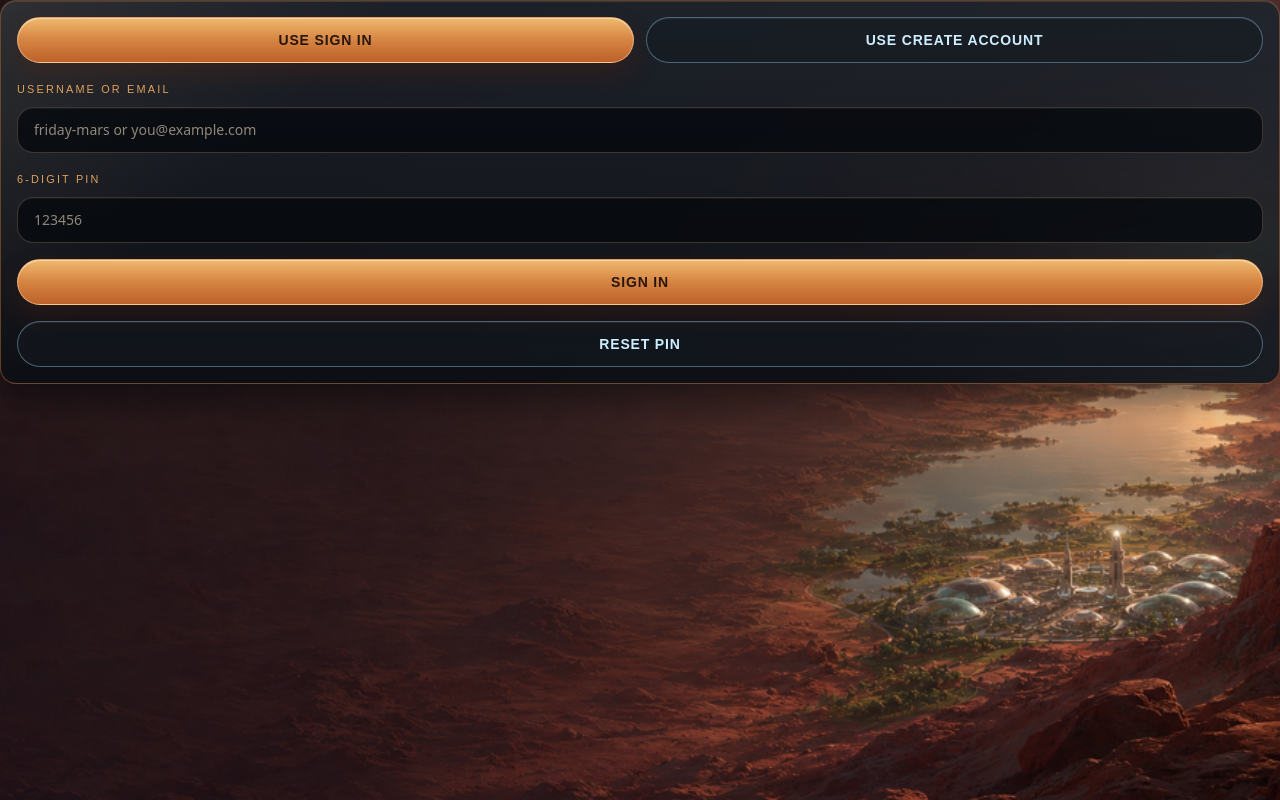
Test: LoginForm › asks for a username or email before requesting a pin reset
Click the button "Reset PIN": (640, 344) [17,321,1263,367]
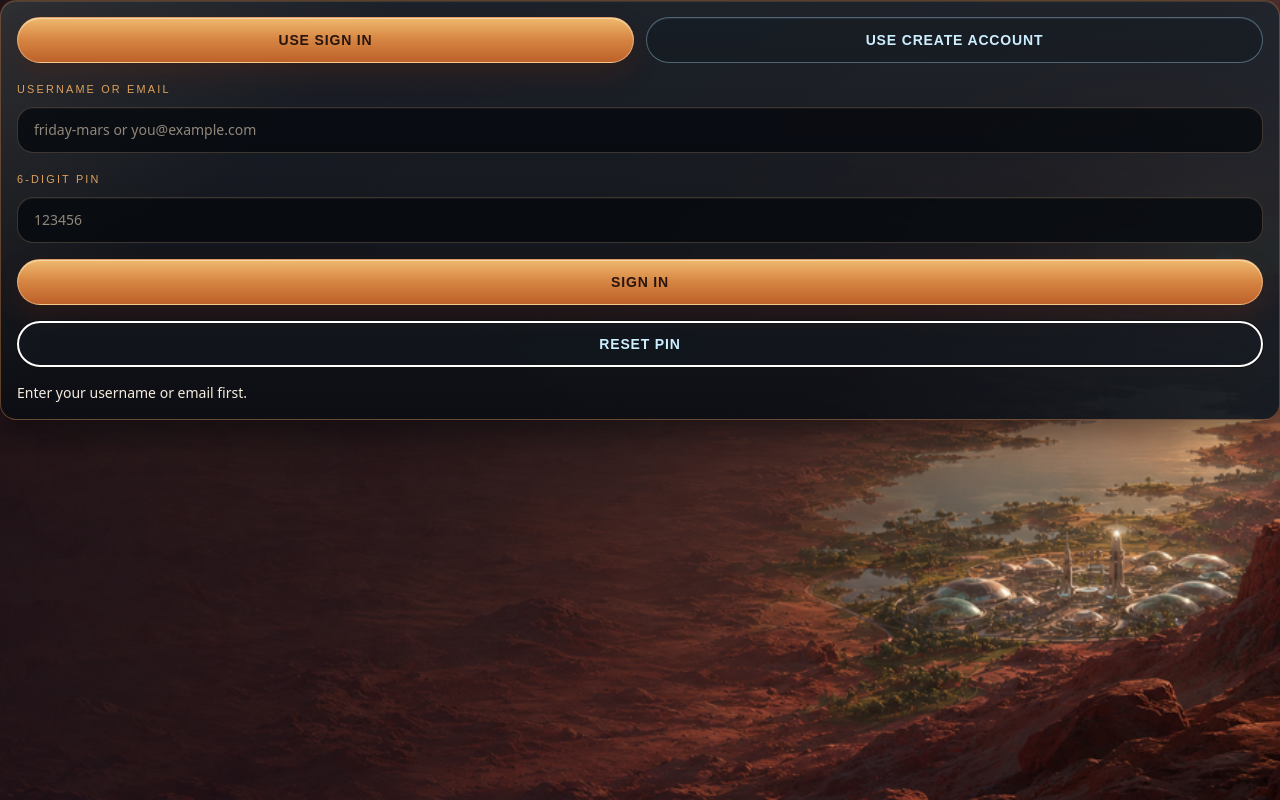
Expected: the text "Enter your username or email first." is shown, [17,383,247,402]
